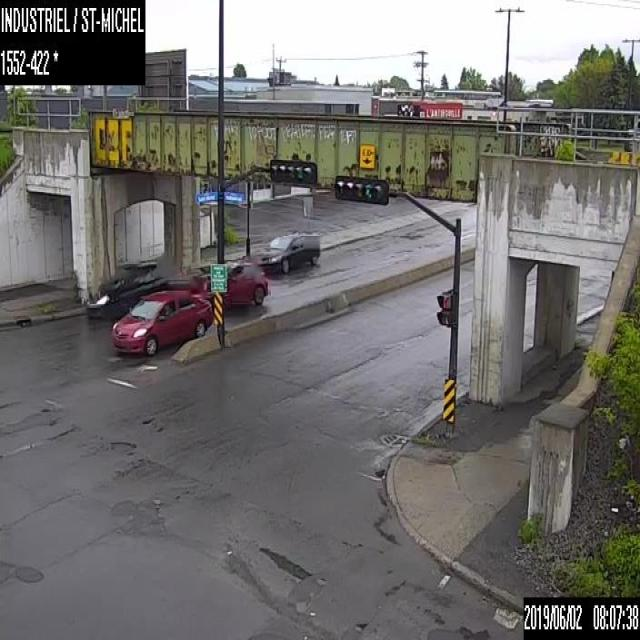vehicle: (111, 289, 212, 355), (84, 262, 167, 318), (189, 260, 268, 305), (259, 231, 319, 273)
